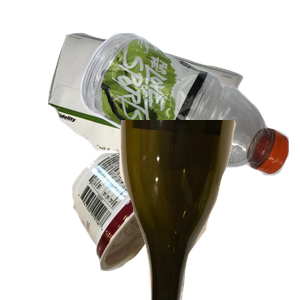glass: (117, 120, 300, 300)
paper: (45, 30, 281, 195)
plastic: (77, 30, 300, 198)
trash: (70, 149, 254, 300)
